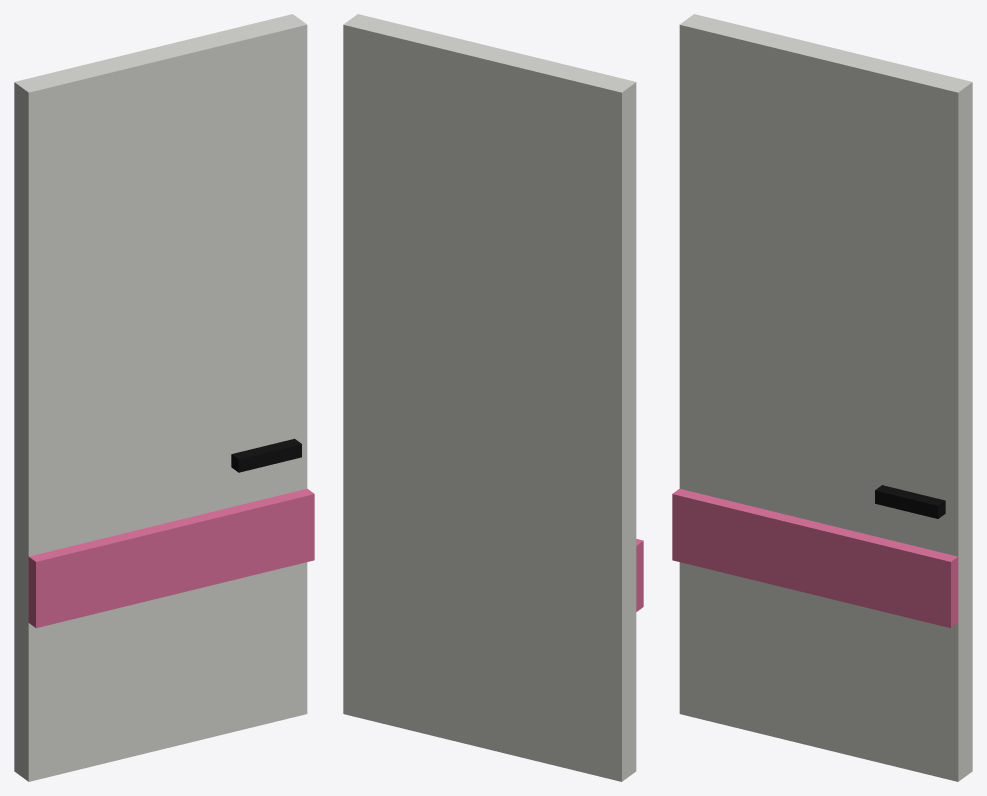
The model's file is ice_cream_van_side_door.glb.
The picture shows the model from 3 angles, left to right: view 1: azimuth 30°, elevation 25°; view 2: azimuth 150°, elevation 25°; view 3: azimuth 330°, elevation 25°; orthographic projection.
Parts seen in each view (by area): view 1: body:compound; view 2: body:compound; view 3: body:compound.
Part boxes in pixels (x1,y1,x2,y2): body:compound: (14, 14, 314, 781); body:compound: (343, 14, 643, 781); body:compound: (672, 14, 972, 781).
Size of the model in its own units: 0.6875 by 1.62 by 0.0938.
